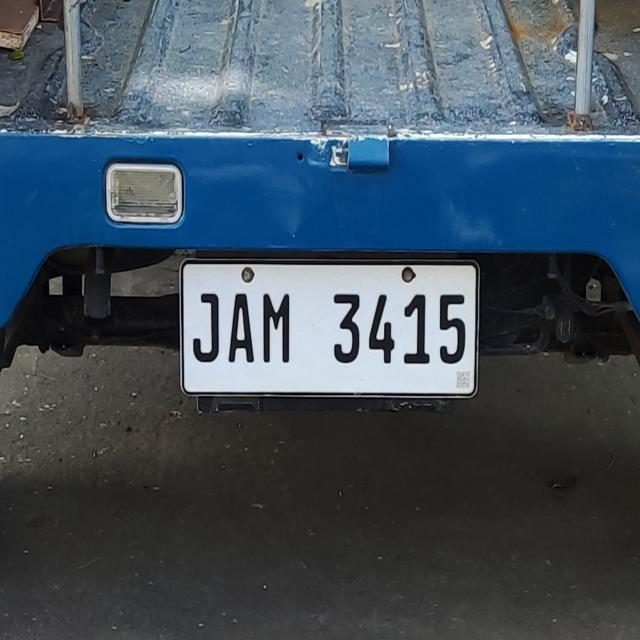plate: (177, 255, 482, 400)
